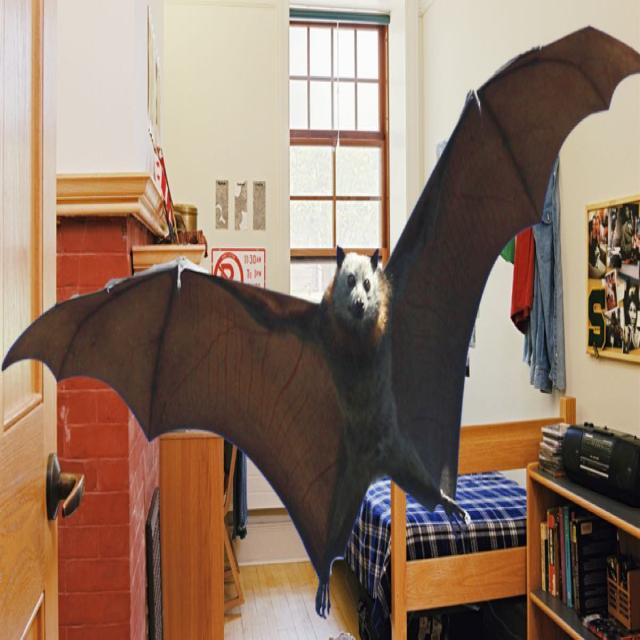Bat: (4, 25, 638, 594)
